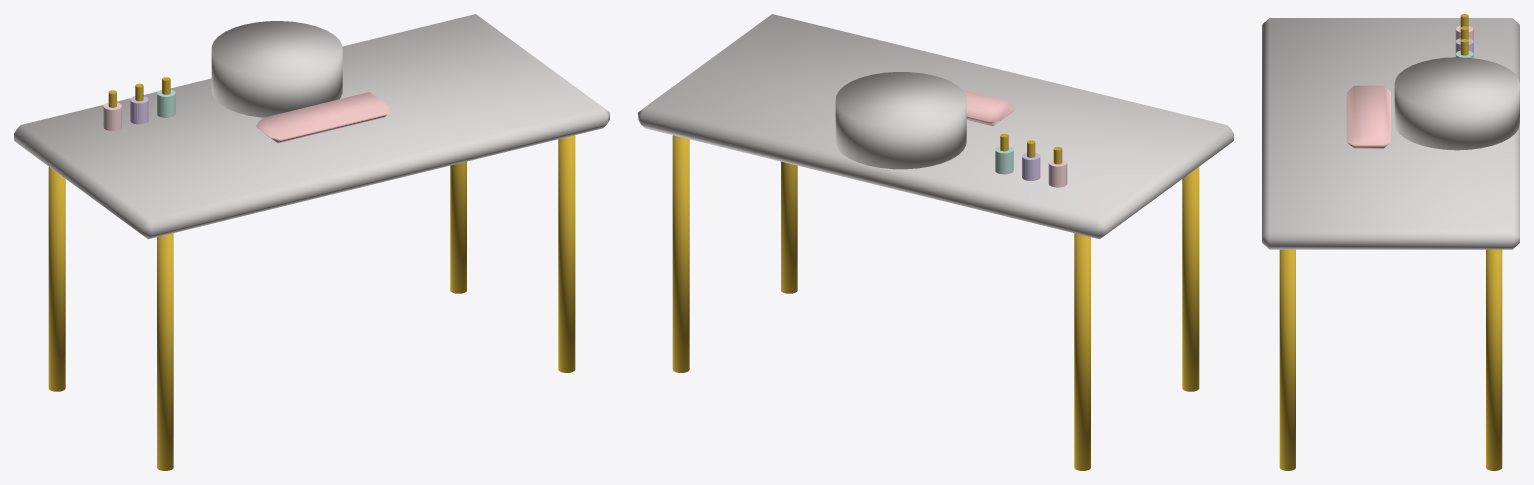
Rendered from manicure-station.glb.
3 views of the same model, side by side, from view 1: azimuth 30°, elevation 25°; view 2: azimuth 150°, elevation 25°; view 3: azimuth 270°, elevation 25° (orthographic). The views are drawn at different scales.
Parts seen in each view (by area): view 1: station_Table, station_UVLamp, station_Leg_3, station_Leg_1, station_Leg_2, station_WristCushion, station_Leg_4; view 2: station_Table, station_UVLamp, station_Leg_4, station_Leg_2, station_Leg_1, station_Leg_3, station_WristCushion; view 3: station_Table, station_UVLamp, station_Leg_3, station_Leg_4, station_WristCushion.
Boxes of the visible parts, x1,y1,x2,y2 form: station_Table: (14,14,609,239); station_UVLamp: (211,21,342,117); station_Leg_3: (558,135,575,372); station_Leg_1: (157,233,173,470); station_Leg_2: (48,167,65,391); station_WristCushion: (255,92,391,143); station_Leg_4: (450,161,466,293); station_Table: (638,14,1233,239); station_UVLamp: (835,72,966,169); station_Leg_4: (672,135,689,372); station_Leg_2: (1074,233,1090,470); station_Leg_1: (1182,167,1199,391); station_Leg_3: (781,161,797,293); station_WristCushion: (963,90,1015,126); station_Table: (1262,18,1519,249); station_UVLamp: (1394,57,1519,150); station_Leg_3: (1279,249,1295,470); station_Leg_4: (1486,249,1502,470); station_WristCushion: (1346,85,1390,148).
Size of the model in its own units: 1.4 by 0.87 by 0.7.
